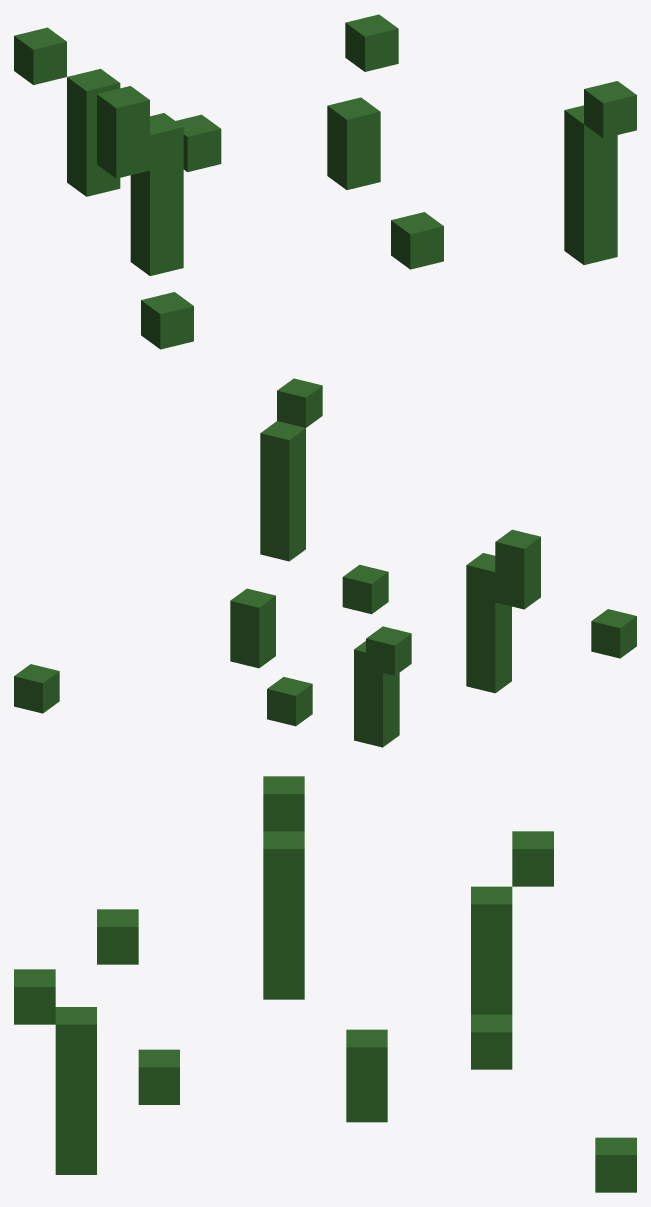
The model's file is Grass 2.obj.
The picture shows the model from 3 angles, top to bottom: view 1: azimuth 30°, elevation 25°; view 2: azimuth 150°, elevation 25°; view 3: azimuth 270°, elevation 25°; orthographic projection. The views are drawn at different scales.
Parts seen in each view (by area): view 1: Grass 2; view 2: Grass 2; view 3: Grass 2.
Boxes of the visible parts, box(x1,y1,x2,y2) form: Grass 2: box(14, 14, 636, 349); Grass 2: box(14, 378, 636, 747); Grass 2: box(14, 776, 636, 1192).
Bounding box in the file's own units: 14 × 5 × 15.
